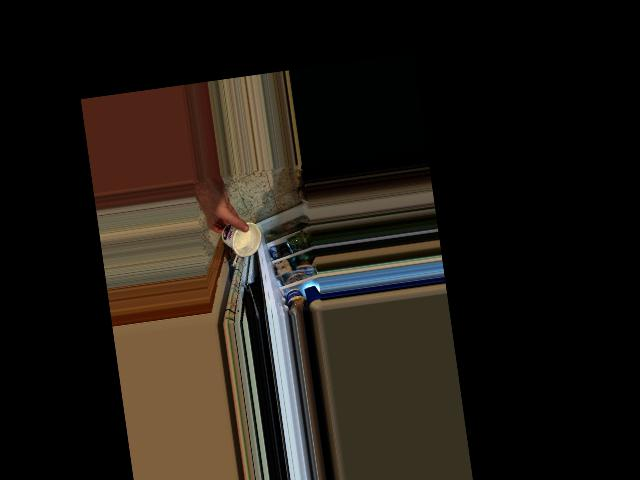cotage: (218, 217, 259, 259)
